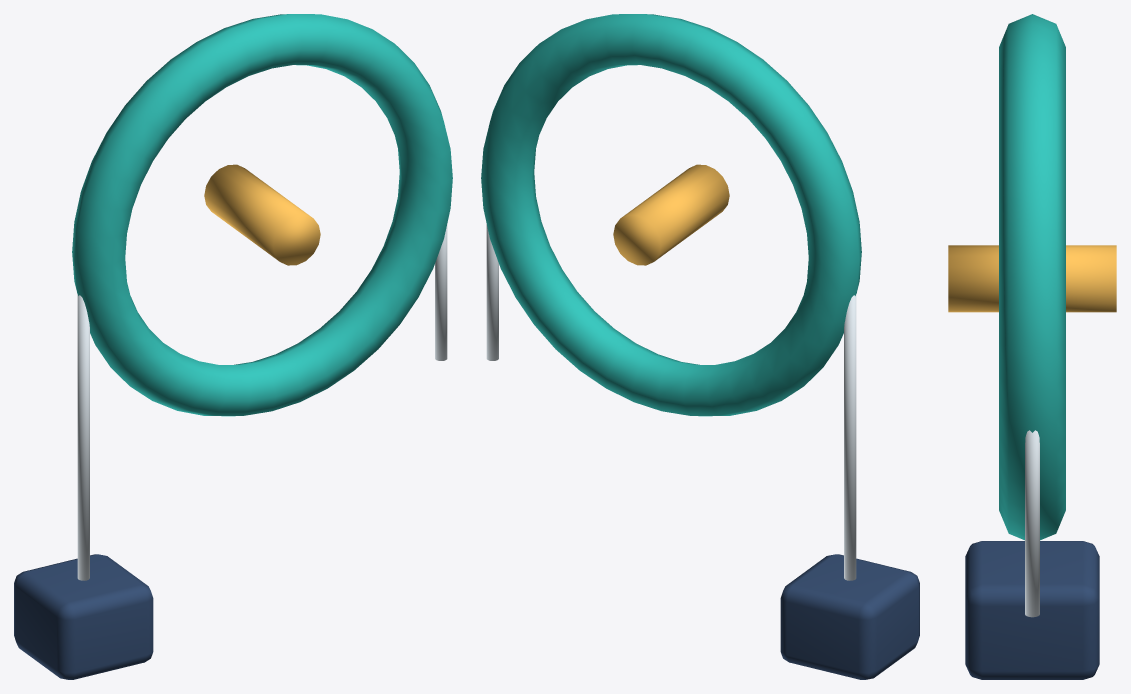
Rendered from pulley-lite.glb.
The picture shows the model from 3 angles, left to right: view 1: azimuth 30°, elevation 25°; view 2: azimuth 150°, elevation 25°; view 3: azimuth 270°, elevation 25°; orthographic projection. The views are drawn at different scales.
Parts seen in each view (by area): view 1: Pulley wheel; view 2: Pulley wheel; view 3: Pulley wheel.
Boxes of the visible parts, <box> form: Pulley wheel: <box>14,14,452,679</box>; Pulley wheel: <box>481,14,919,679</box>; Pulley wheel: <box>948,14,1116,679</box>.
Bounding box in the file's own units: 1.39 × 1.9 × 0.4.
